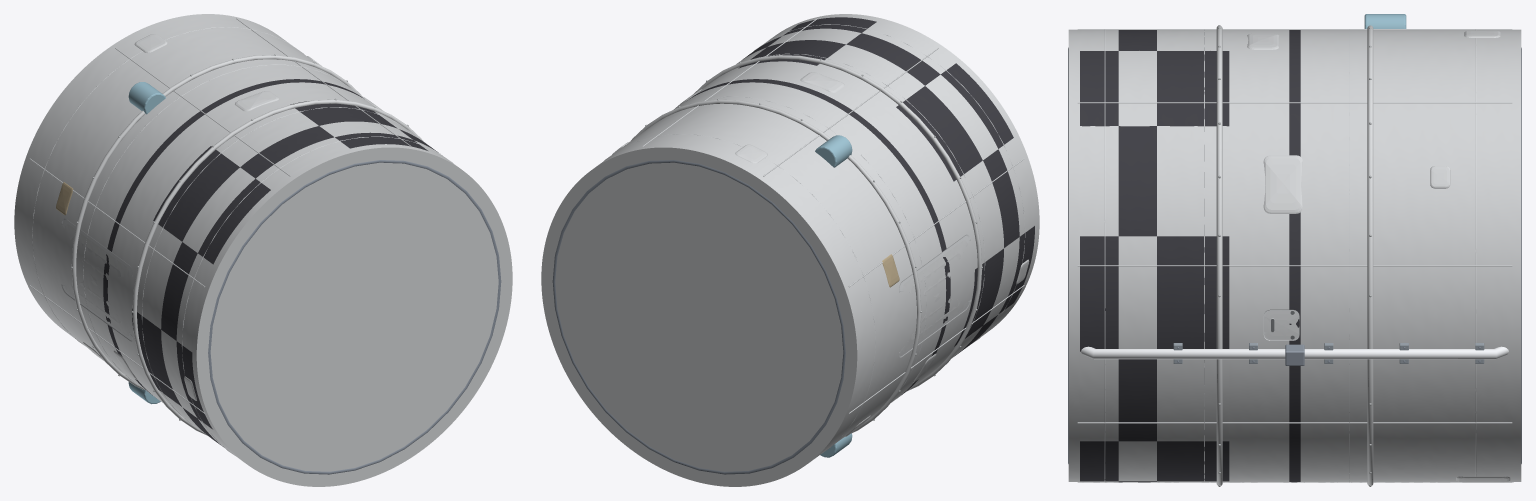
Rendered from tank-6-main.glb.
The picture shows the model from 3 angles, left to right: view 1: azimuth 30°, elevation 25°; view 2: azimuth 150°, elevation 25°; view 3: azimuth 270°, elevation 25°; orthographic projection. The views are drawn at different scales.
Parts seen in each view (by area): view 1: tank_hull, tank_surface_panels, tank_end_rim_1.0, tank-band.001, tank-band, copv_bottle_1.0; view 2: tank_hull, tank_surface_panels, tank_end_rim_-1.0, tank-band.001, tank-band, copv_bottle_1.0; view 3: tank_hull, tank_surface_panels, cryo_feedline, tank-band, tank-band.001, tank_circumferential_seam_3, tank_longitudinal_seam_7, tank_longitudinal_seam_0, tank_longitudinal_seam_1, tank_circumferential_seam_0, copv_bottle_1.0.
Boxes of the visible parts, x1,y1,x2,y2 form: tank_hull: [14, 14, 512, 486]; tank_surface_panels: [56, 34, 382, 400]; tank_end_rim_1.0: [208, 160, 501, 474]; tank-band.001: [132, 99, 423, 435]; tank-band: [71, 55, 361, 389]; copv_bottle_1.0: [128, 82, 165, 114]; tank_hull: [541, 14, 1039, 486]; tank_surface_panels: [612, 72, 1029, 436]; tank_end_rim_-1.0: [552, 160, 845, 474]; tank-band.001: [694, 55, 982, 390]; tank-band: [630, 99, 921, 433]; copv_bottle_1.0: [815, 135, 852, 167]; tank_hull: [1068, 29, 1521, 482]; tank_surface_panels: [1247, 30, 1510, 482]; cryo_feedline: [1081, 346, 1508, 359]; tank-band: [1367, 25, 1373, 485]; tank-band.001: [1216, 25, 1222, 485]; tank_circumferential_seam_3: [1104, 29, 1105, 481]; tank_longitudinal_seam_7: [1077, 422, 1512, 423]; tank_longitudinal_seam_0: [1077, 265, 1512, 266]; tank_longitudinal_seam_1: [1077, 102, 1512, 103]; tank_circumferential_seam_0: [1475, 29, 1476, 476]; copv_bottle_1.0: [1364, 14, 1406, 28].
Size of the model in its own units: 6.32 by 6.15 by 6.02.
